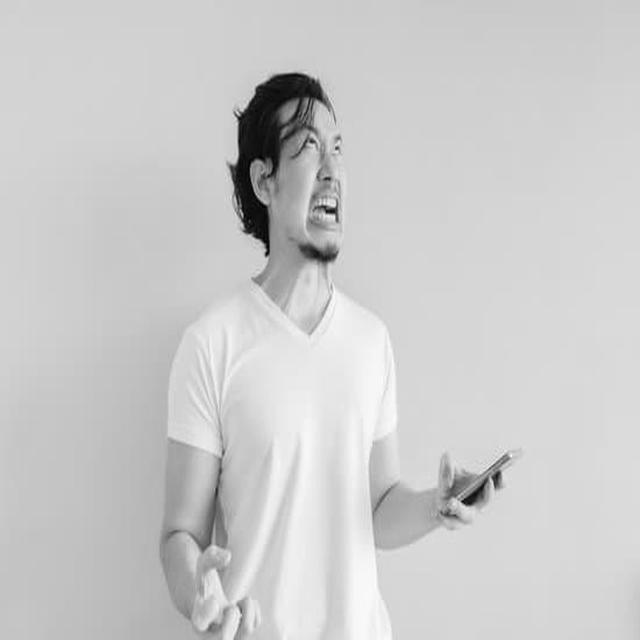Angry: (268, 101, 345, 260)
